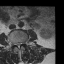CCS_normal: (17, 40, 20, 50)
LFS_stenosis: (22, 39, 24, 46)
LLS_stenosis: (20, 40, 22, 47)
RFS_stenosis: (13, 40, 15, 47)
RLS_normal: (15, 40, 17, 48)
